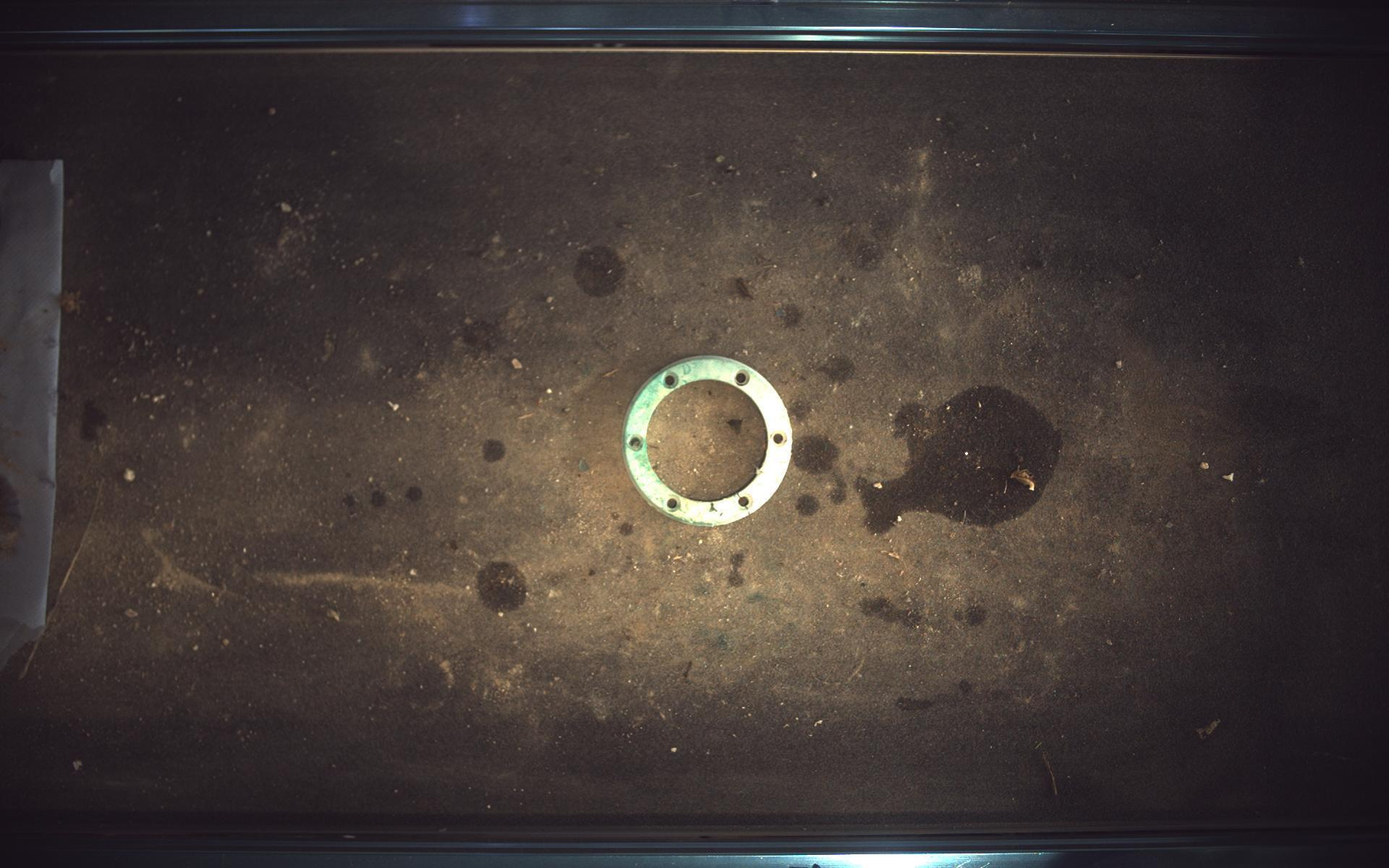plastic: (624, 355, 794, 527)
